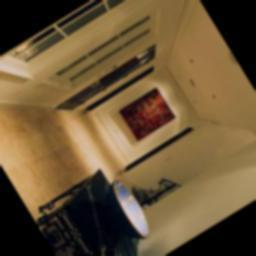Escaleras: (124, 156, 186, 212)
Puerta: (58, 42, 164, 115), (85, 63, 160, 114), (121, 123, 196, 173)
